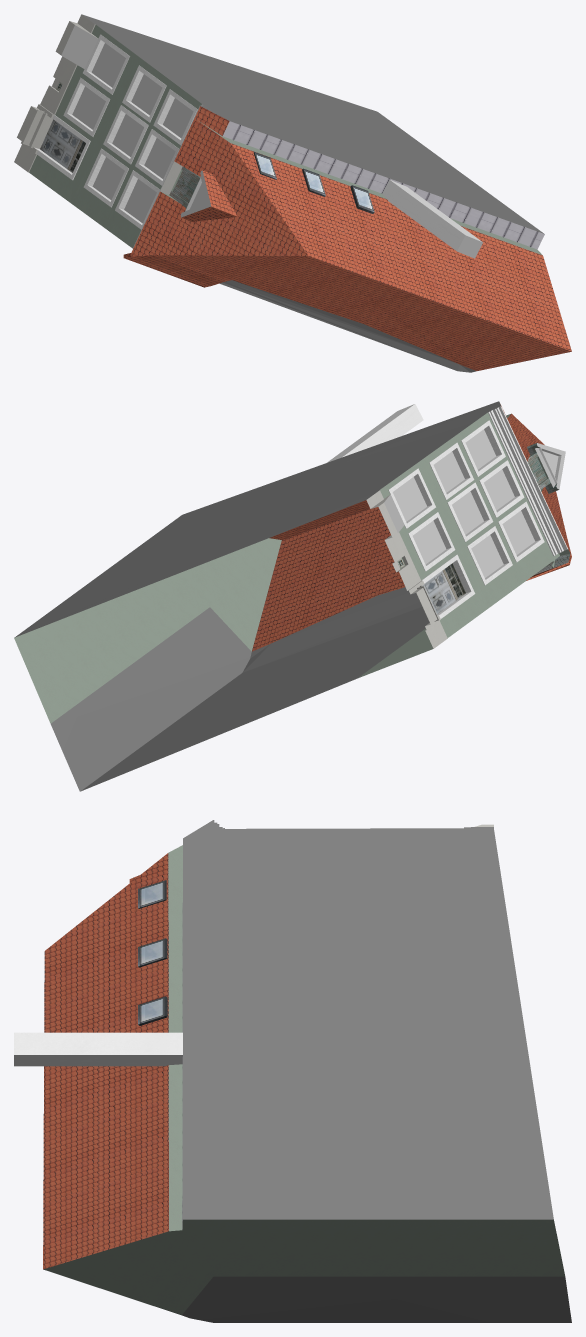
Rendered from Pikk_44.obj.
3 renders of one model, top to bottom at view 1: azimuth 30°, elevation 25°; view 2: azimuth 150°, elevation 25°; view 3: azimuth 270°, elevation 25°, orthographic. The views are drawn at different scales.
Visible parts, largest first — view 1: Pikk_44; view 2: Pikk_44; view 3: Pikk_44.
Part boxes in pixels (left/top/right/bottom): Pikk_44: left=14, top=14, right=571, bottom=372; Pikk_44: left=14, top=401, right=571, bottom=791; Pikk_44: left=14, top=820, right=571, bottom=1322.
Bounding box in the file's own units: 19.43 × 15.1 × 21.
